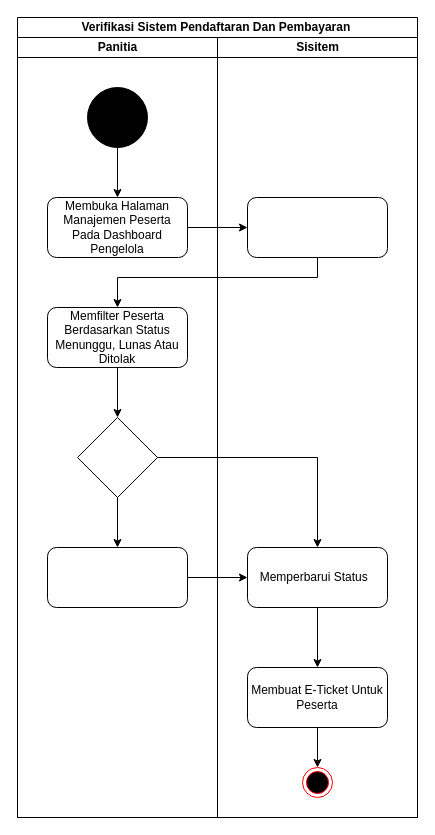
The diagram is 435 pixels wide and 835 high, and some of its shapes have lost their labels. Here are the shapes that lost their labels. From the top down, the centre of each, then its label:
At pixel 317 227: "Menampilkan Tabel Peserta Dengan Kolom Nama, Nim, Status Pembayaran DLL".
At pixel 117 457: "Event Berbayar?".
At pixel 117 577: "Mengkonfirmasi Pembayaran Peserta Setelah Bukti Transfer Diperiksa".
